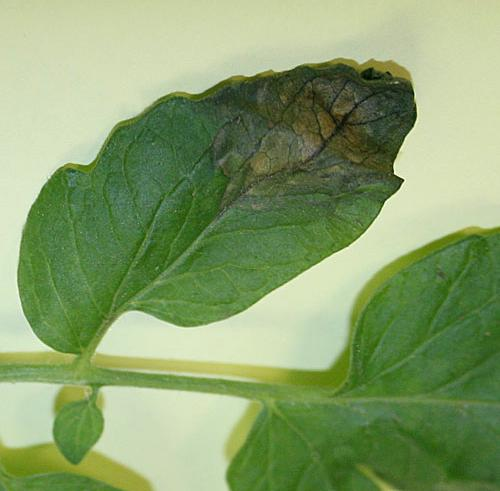Tomato leaf late blight: (13, 46, 439, 367)
